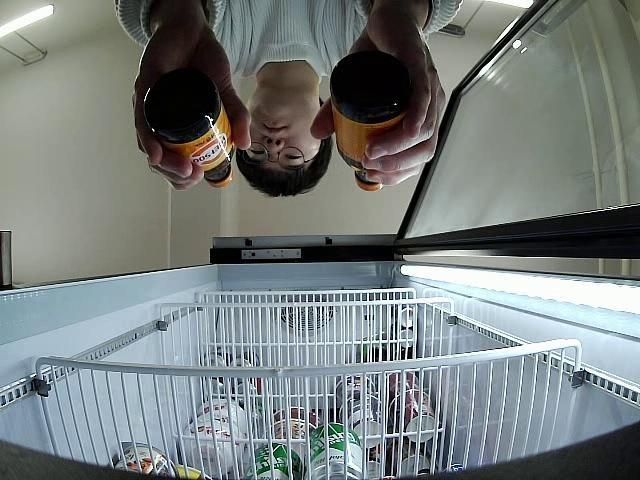17_vita500: (331, 54, 414, 192), (143, 70, 235, 188)
